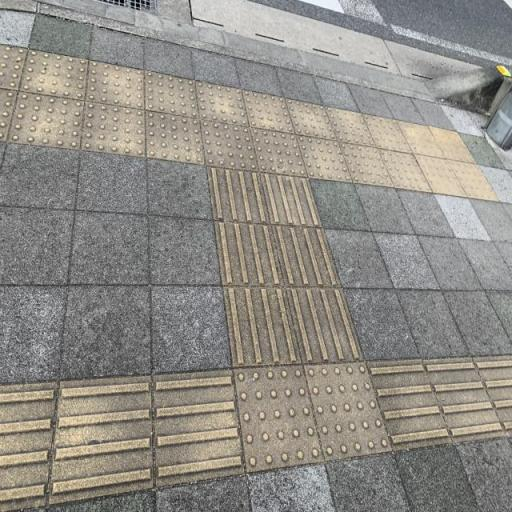dot: (234, 365, 323, 476), (306, 362, 395, 464), (5, 91, 86, 150), (82, 101, 147, 159), (19, 48, 87, 101), (146, 109, 206, 165), (198, 118, 260, 172), (250, 128, 309, 176), (87, 60, 144, 109), (296, 135, 354, 182), (143, 69, 198, 118), (194, 81, 250, 128), (340, 142, 395, 187), (242, 90, 295, 134), (285, 98, 339, 141), (325, 106, 378, 148)
line: (49, 376, 155, 504), (149, 369, 246, 490), (366, 359, 453, 453), (423, 356, 507, 443), (223, 285, 302, 369), (286, 285, 367, 365), (217, 220, 285, 285), (273, 226, 340, 285), (207, 166, 271, 222), (260, 171, 321, 225)
